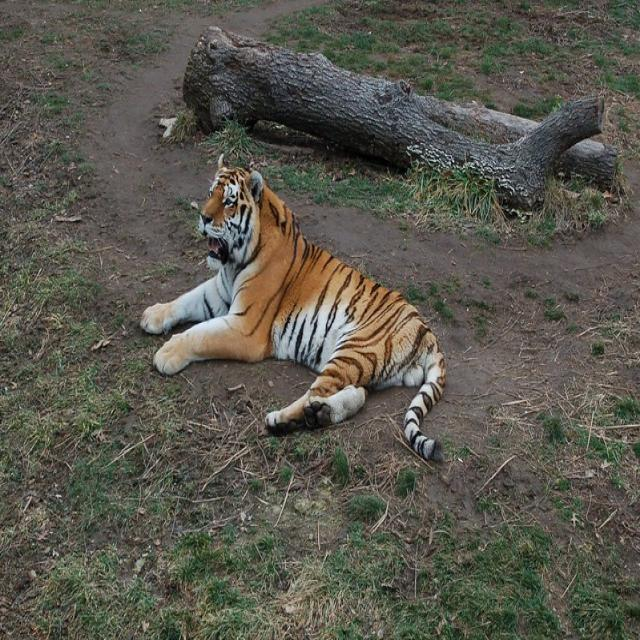Tiger: (130, 158, 452, 464)
